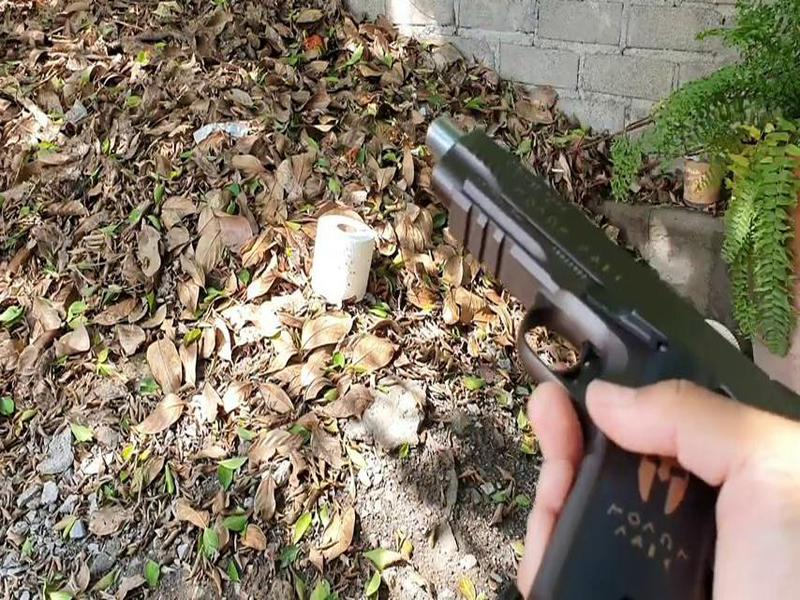Pistola: (393, 91, 800, 599)
